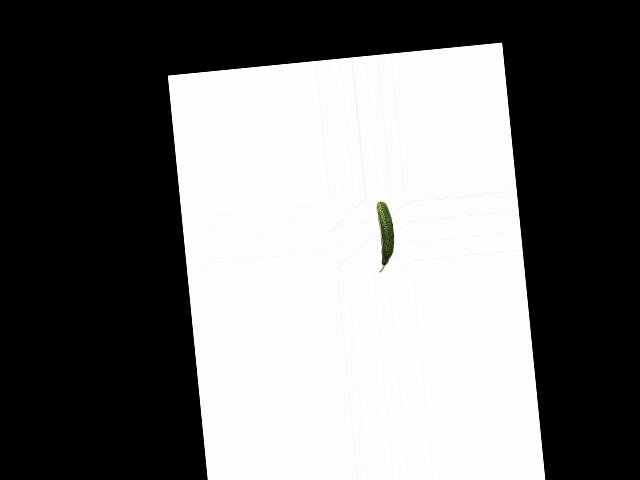cucumber: (372, 201, 397, 273)
